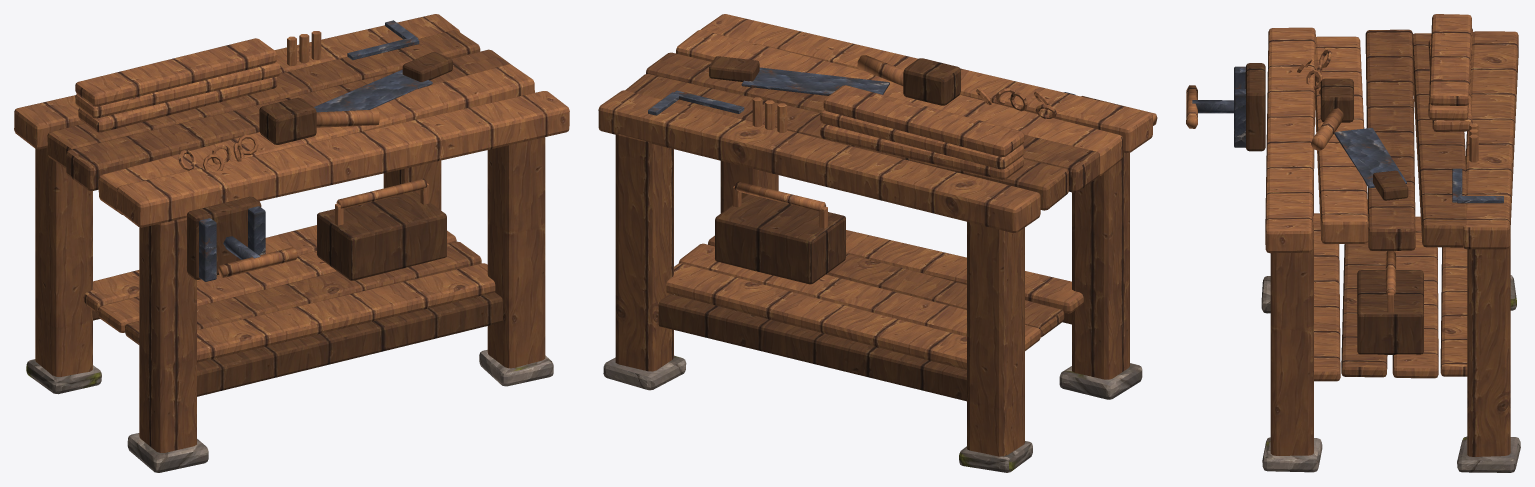
Rendered from carpenters_vise.glb.
3 renders of one model, left to right at view 1: azimuth 30°, elevation 25°; view 2: azimuth 150°, elevation 25°; view 3: azimuth 270°, elevation 25°, orthographic. The views are drawn at different scales.
Visible parts, largest first — view 1: model; view 2: model; view 3: model.
Part boxes in pixels (x1=…): model: x1=14, y1=14, x2=569, y2=472; model: x1=598, y1=14, x2=1157, y2=472; model: x1=1186, y1=14, x2=1520, y2=472.
Bounding box in the file's own units: 1.41 × 0.9698 × 1.
Materials: 9 (9 with a texture image).
